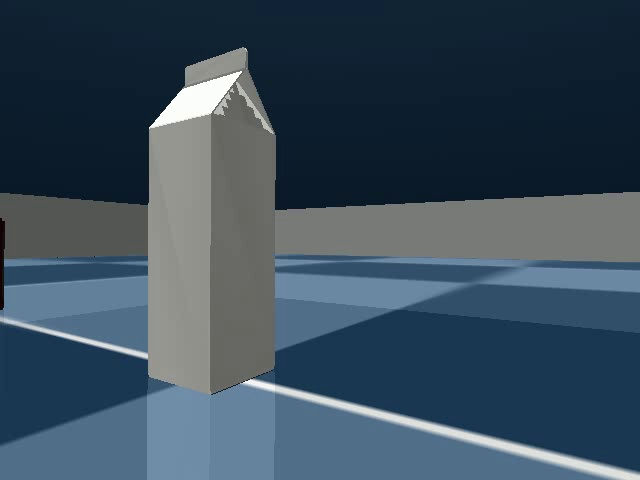milk: (138, 39, 284, 401)
